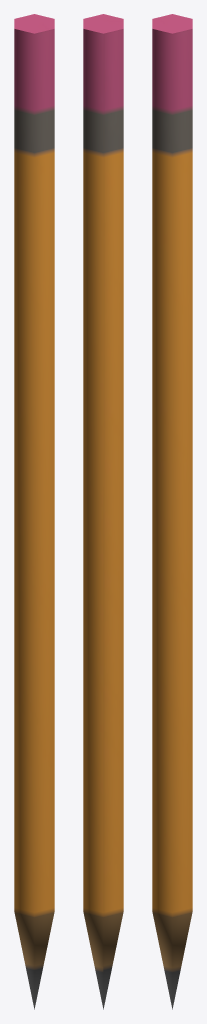
The model's file is pencil.FBX.
3 renders of one model, left to right at view 1: azimuth 90°, elevation 25°; view 2: azimuth 150°, elevation 25°; view 3: azimuth 270°, elevation 25°, orthographic.
Parts seen in each view (by area): view 1: pencil; view 2: pencil; view 3: pencil.
Boxes of the visible parts, bbox=[...] form: pencil: bbox=[14, 14, 54, 1009]; pencil: bbox=[83, 14, 123, 1009]; pencil: bbox=[152, 14, 192, 1009].
Size of the model in its own units: 0.3 by 0.2598 by 7.
